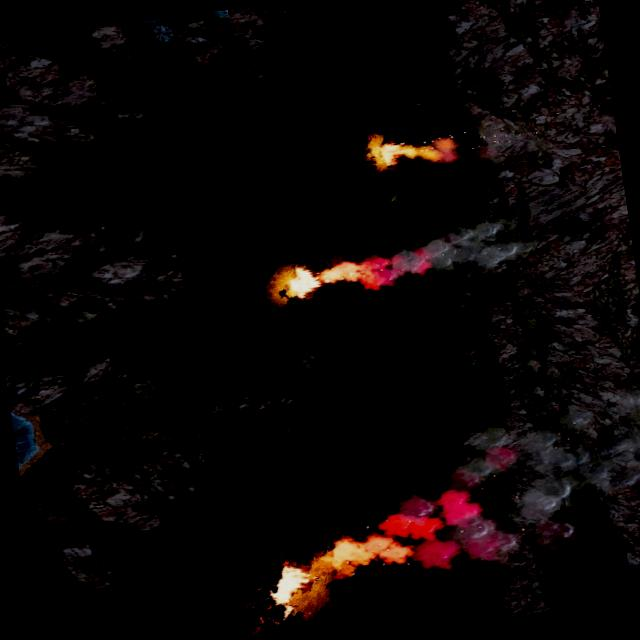fire: (266, 560, 316, 606), (275, 264, 322, 302), (366, 135, 411, 169)
smoke: (298, 375, 640, 591), (316, 215, 542, 304), (410, 133, 465, 169)
